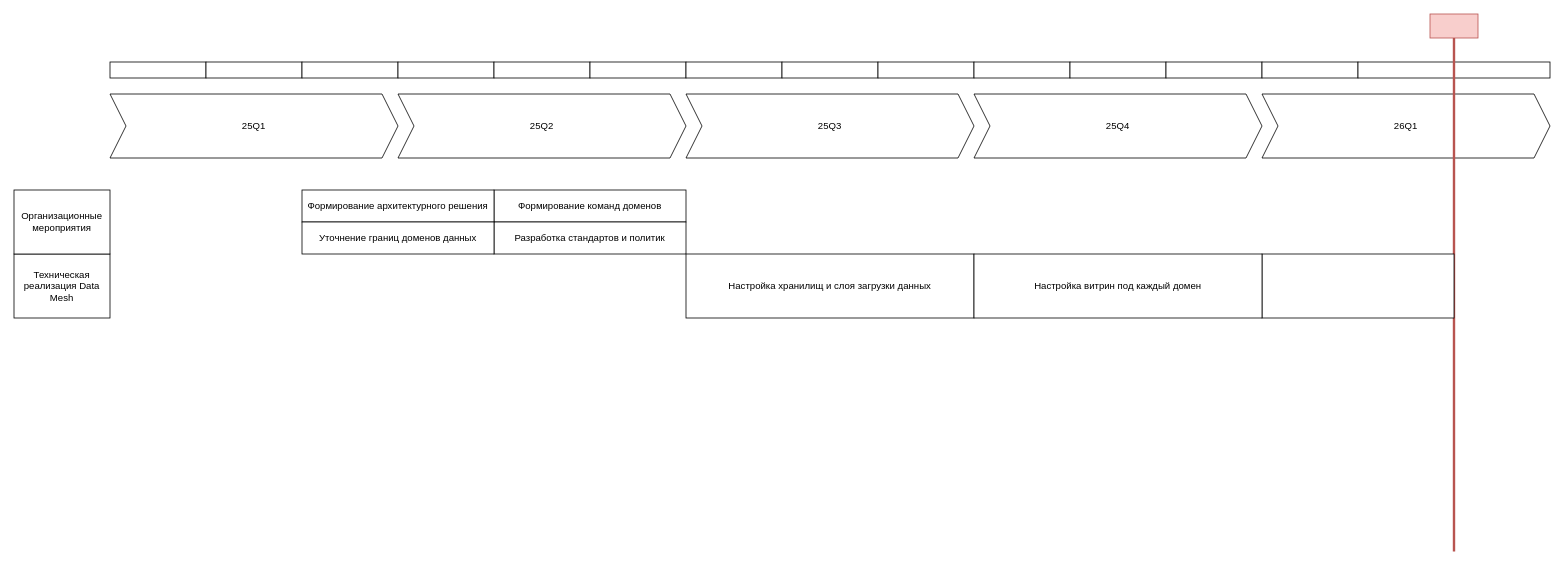
Some shapes in this 1564 by 567 pixel diagram are drawn without their labels. Each missing label, with the centre of its shape:
"CI/CD, мониторинг, логирование" goes at (1357,285).
"MVP" goes at (1453,25).
